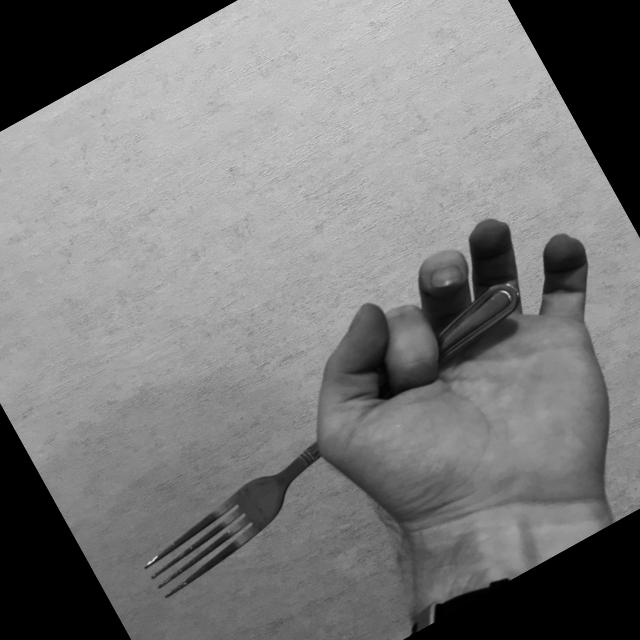fork: (103, 271, 570, 604)
